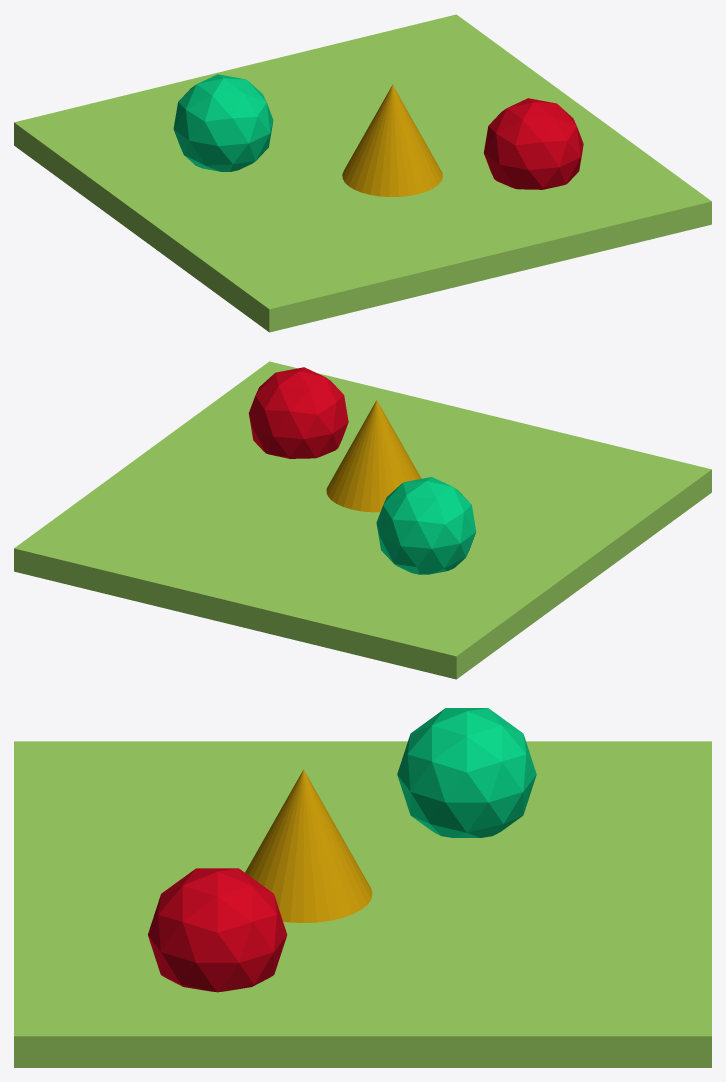
The model's file is loadTest.glb.
The picture shows the model from 3 angles, top to bottom: view 1: azimuth 30°, elevation 25°; view 2: azimuth 150°, elevation 25°; view 3: azimuth 270°, elevation 25°; orthographic projection. The views are drawn at different scales.
Visible parts, largest first — view 1: Cube.001, Icosphere, Icosphere.001, Cone; view 2: Cube.001, Icosphere, Icosphere.001, Cone; view 3: Cube.001, Icosphere, Icosphere.001, Cone.
Part boxes in pixels (box(x1,y1,x2,y2)): Cube.001: box(14, 14, 711, 332); Icosphere: box(173, 74, 273, 171); Icosphere.001: box(484, 98, 583, 189); Cone: box(342, 84, 442, 196); Cube.001: box(14, 361, 711, 679); Icosphere: box(376, 477, 476, 574); Icosphere.001: box(248, 367, 348, 458); Cone: box(326, 400, 421, 512); Cube.001: box(14, 741, 711, 1067); Icosphere: box(397, 708, 536, 837); Icosphere.001: box(148, 868, 287, 992); Cone: box(245, 769, 372, 922).
Bounding box in the file's own units: 10 × 2.47 × 10.
